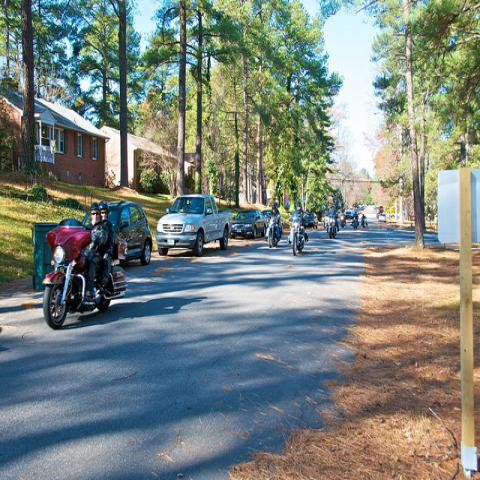car: (81, 200, 153, 266), (156, 194, 232, 255), (230, 210, 268, 238), (305, 212, 318, 230), (261, 210, 272, 227), (344, 210, 352, 220), (390, 212, 400, 219), (378, 213, 386, 221), (376, 208, 380, 218), (355, 210, 360, 215)
motorcycle: (42, 218, 125, 333), (288, 212, 307, 256), (263, 212, 281, 252), (327, 214, 337, 238), (340, 216, 345, 228), (352, 218, 357, 230), (361, 218, 366, 228)
truck: (156, 193, 234, 257)
